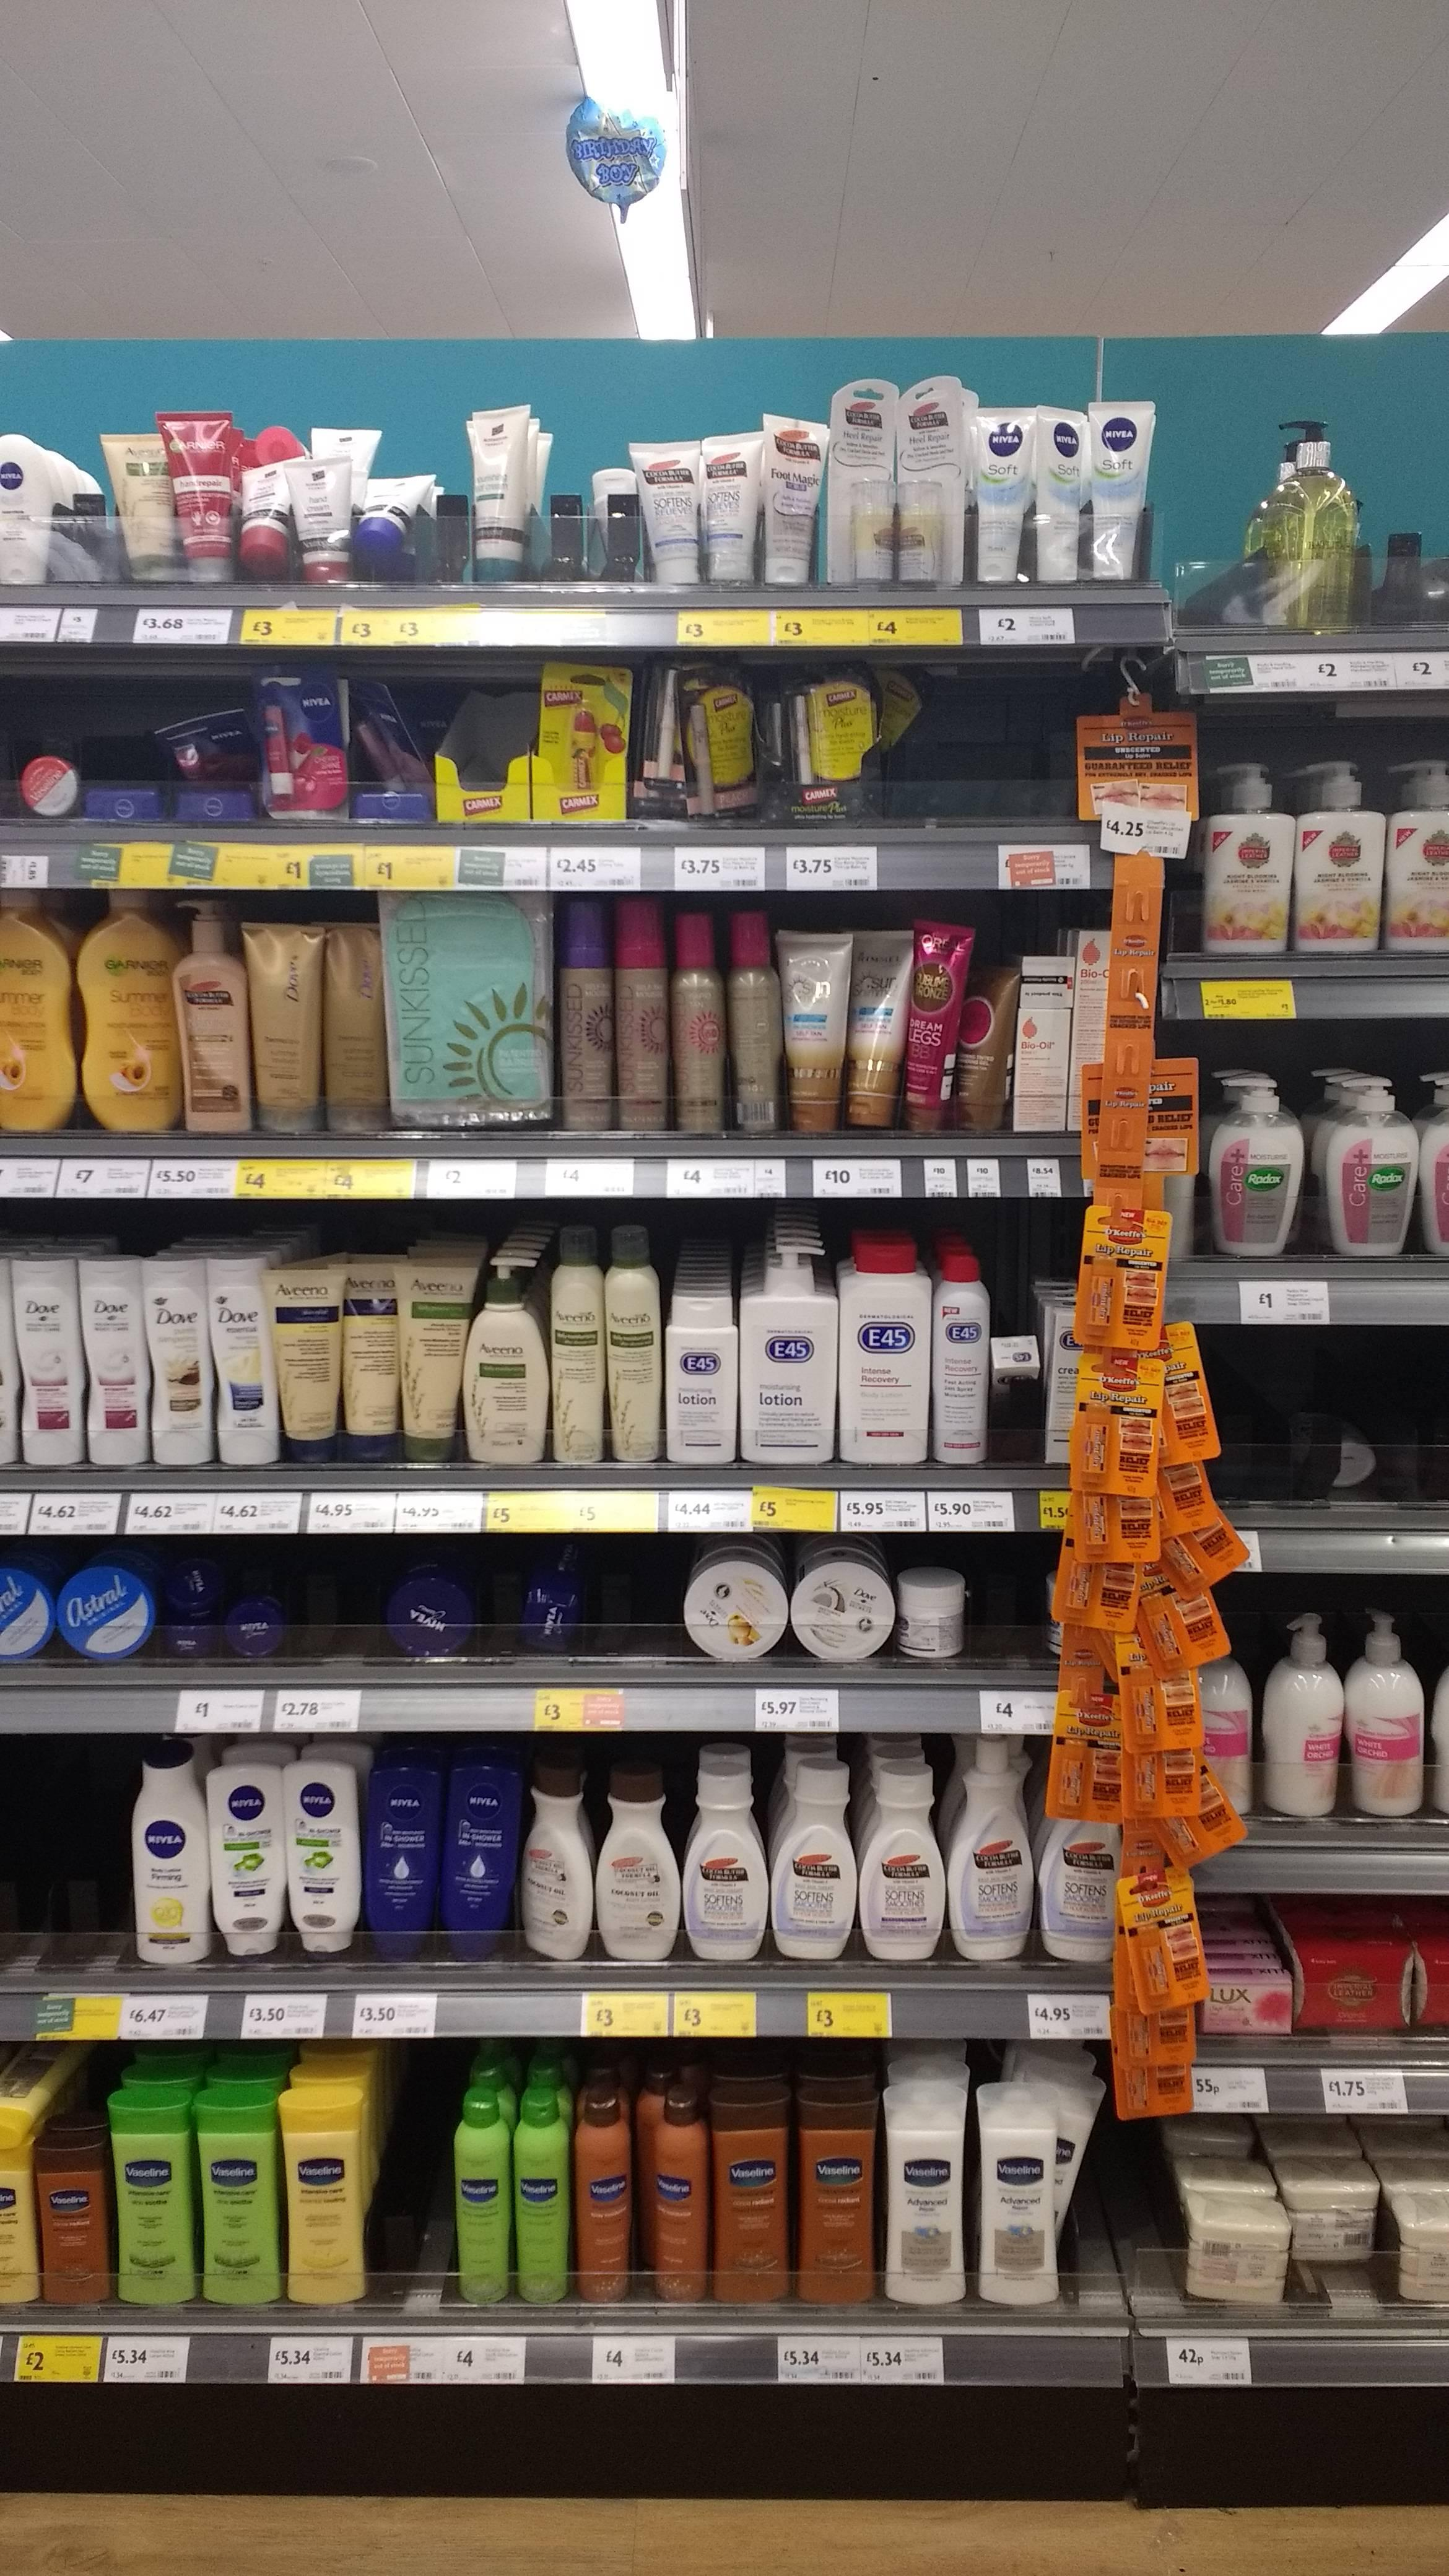empty: (5, 1771, 127, 1976), (368, 2105, 455, 2312), (1067, 2123, 1168, 2300), (890, 681, 971, 828), (968, 683, 1049, 830)
